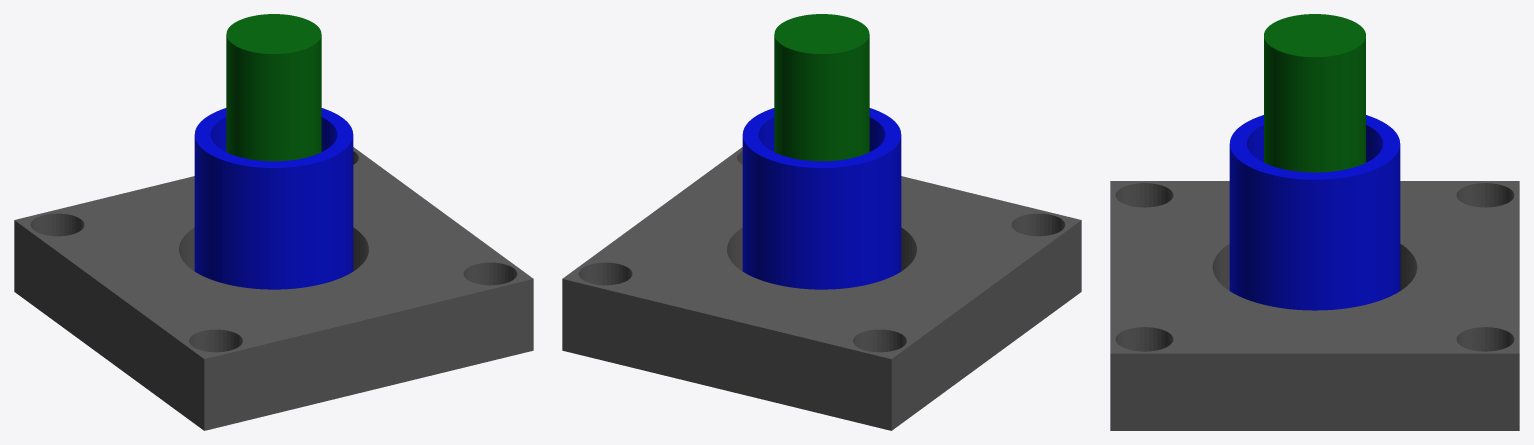
The model's file is FullAssembly.dae.
3 renders of one model, left to right at view 1: azimuth 30°, elevation 25°; view 2: azimuth 150°, elevation 25°; view 3: azimuth 270°, elevation 25°, orthographic. The views are drawn at different scales.
Visible parts, largest first — view 1: node; view 2: node; view 3: node.
Boxes of the visible parts, x1,y1,x2,y2 form: node: (14,14,533,430); node: (562,14,1081,430); node: (1110,14,1519,430).
Bounding box in the file's own units: 0.12 × 0.12 × 0.1.
